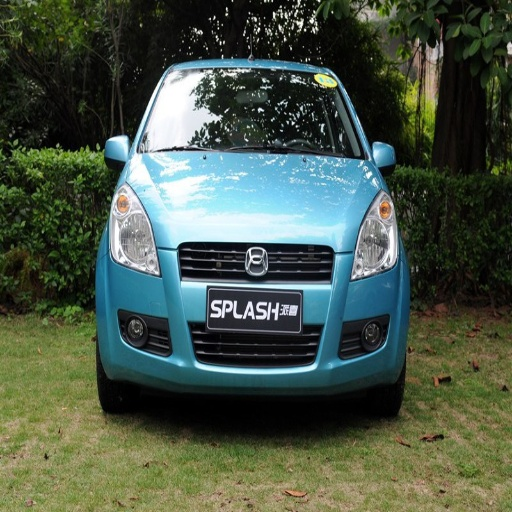front_bumper: (99, 243, 402, 394)
front_right_light: (109, 188, 159, 277)
hood: (126, 152, 382, 251)
